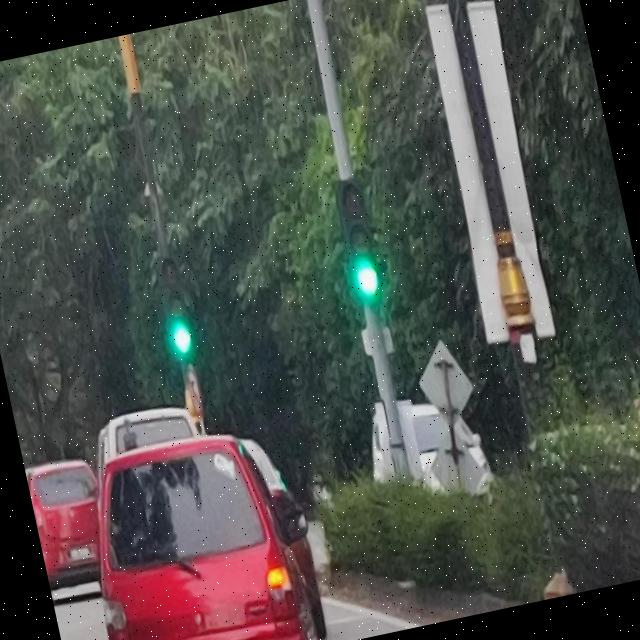green_light: (330, 176, 382, 300), (152, 255, 196, 358)
